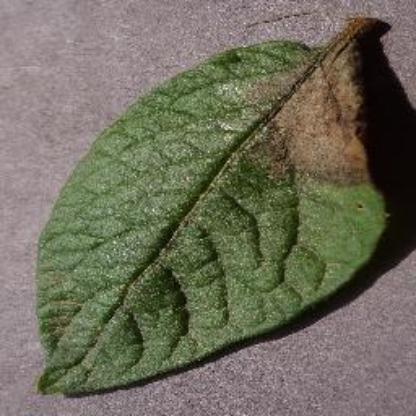Late-Blight: (28, 12, 392, 406)
